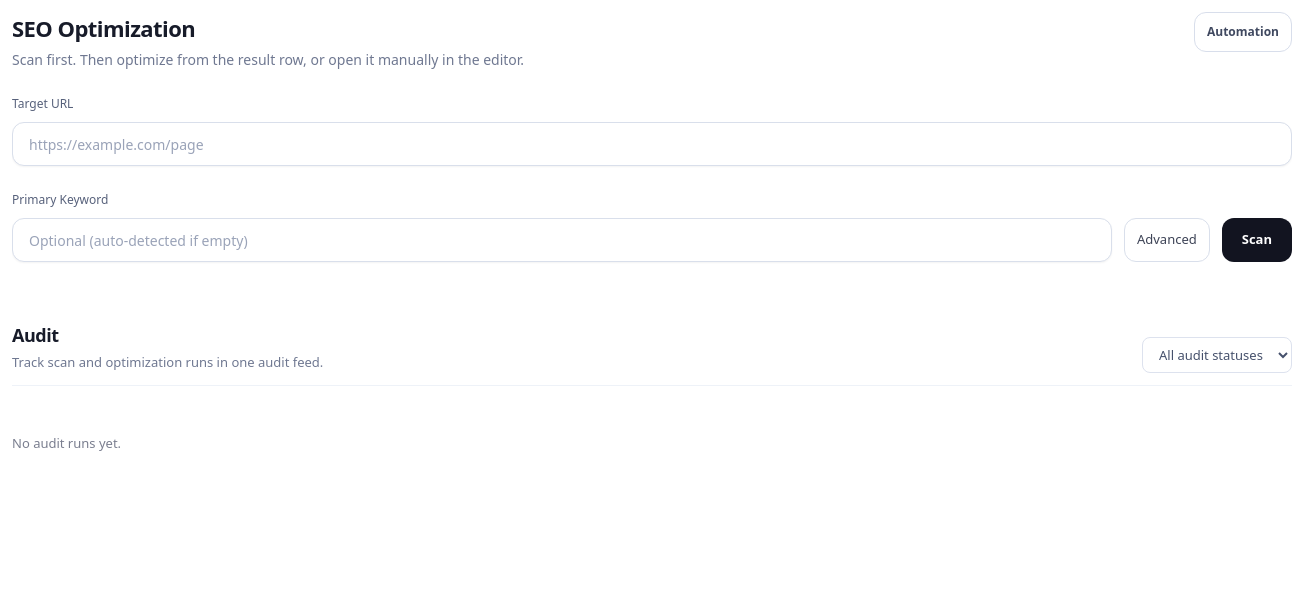
Test: Dashboard scan flow › derives keyword label from URL when the request keyword is blank
The image size is (1304, 610).
Type "https://example.com/chemical-and-petrochemical" into the field labelled "Target URL" at (652, 144), box x1=12 y1=122 x2=1292 y2=166
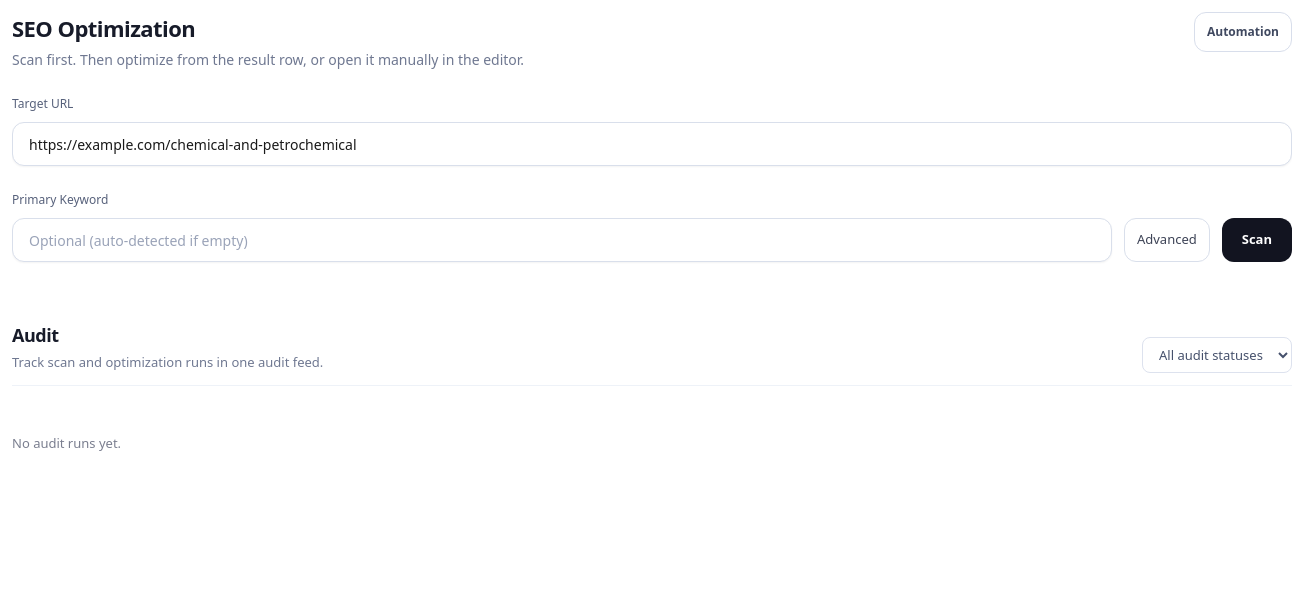
Click the button "Scan" at (1257, 240), box x1=1222 y1=218 x2=1292 y2=262
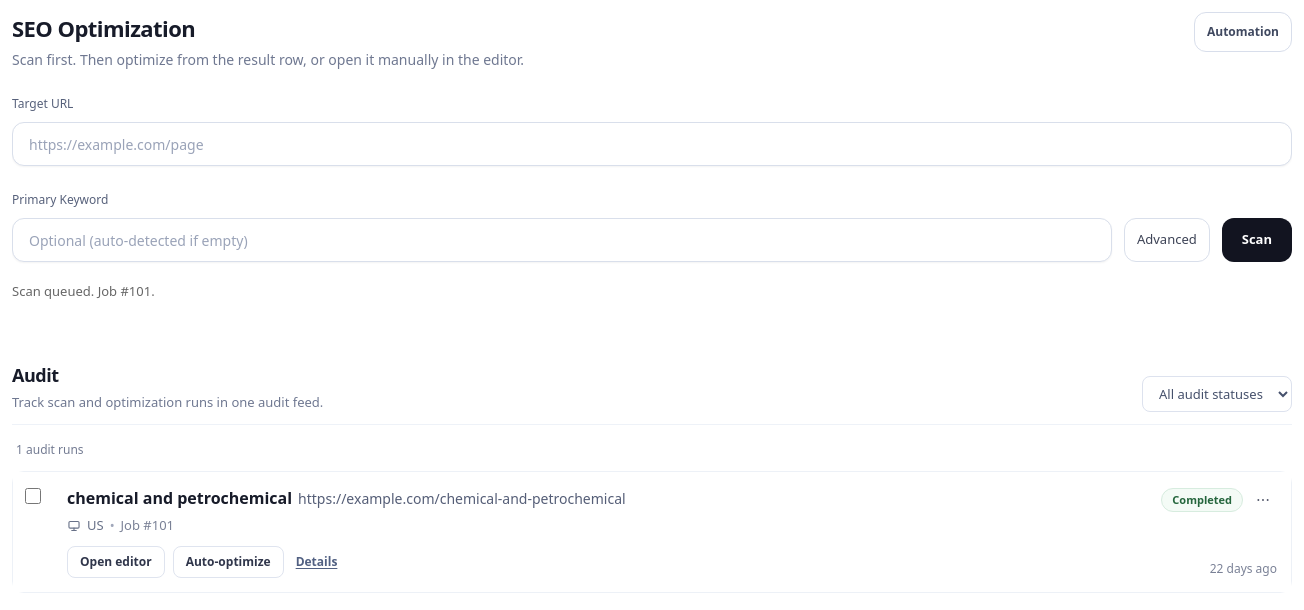
Result: the text "chemical and petrochemical" is shown at x1=67 y1=486 x2=292 y2=510
